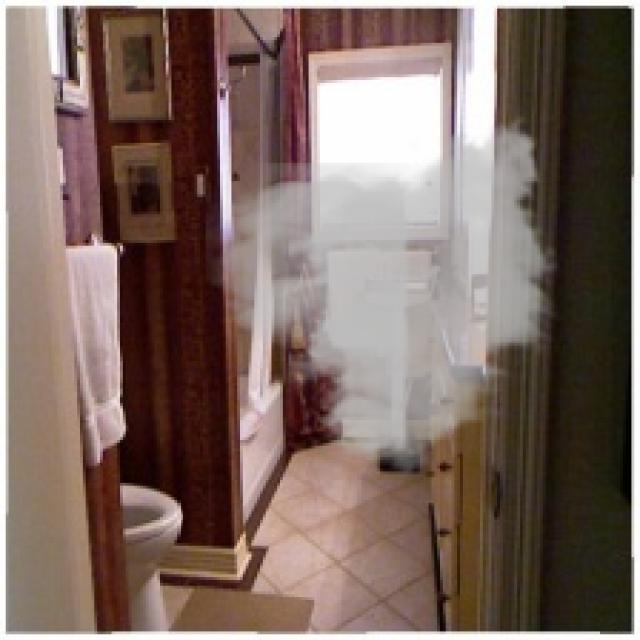smoke: (206, 106, 563, 486)
